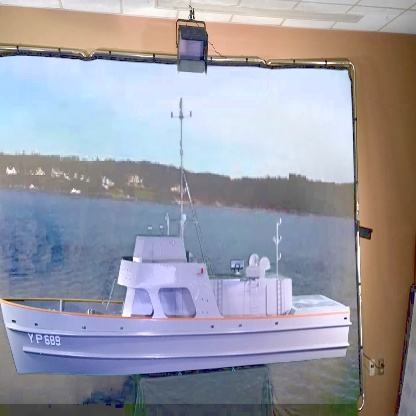YP689: (0, 80, 351, 378)
